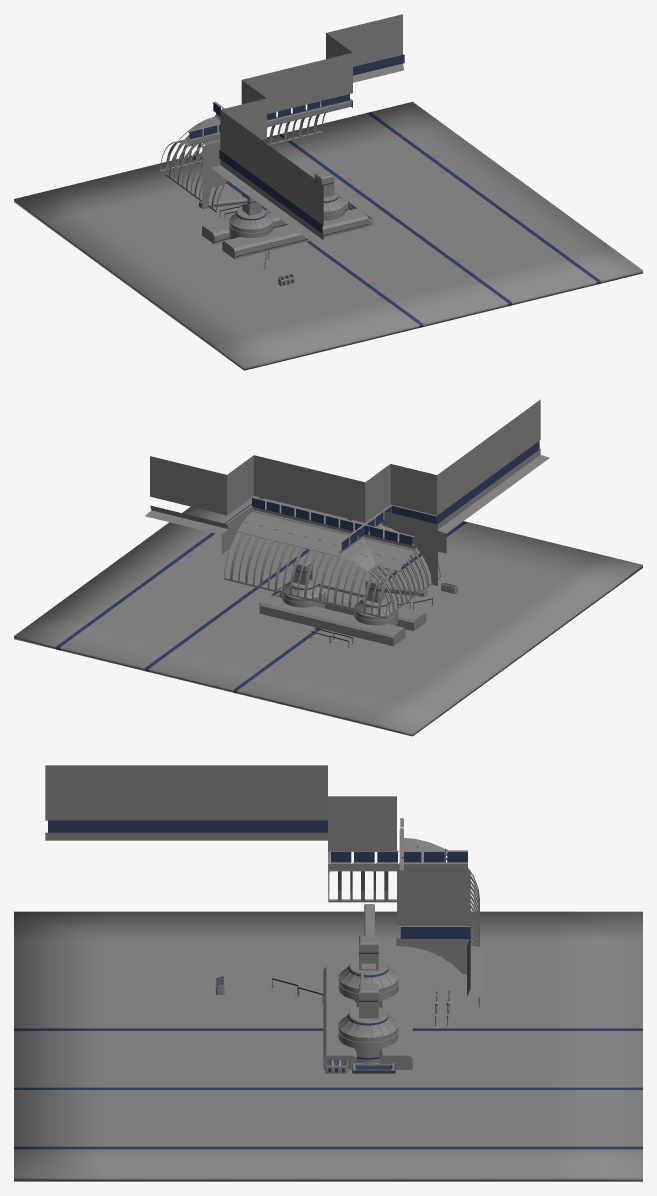
The model's file is background_set.fbx.
The picture shows the model from 3 angles, top to bottom: view 1: azimuth 30°, elevation 25°; view 2: azimuth 150°, elevation 25°; view 3: azimuth 270°, elevation 25°; orthographic projection. The views are drawn at different scales.
Visible parts, largest first — view 1: Plane, Cylinder.004, Cylinder.002, Cube.018, Cylinder.003, Cylinder.001, Cube.019, Cylinder; view 2: Plane, Cylinder.004, Cylinder.002, Cube.019, Cylinder.003, Cube.018, Cylinder.001, Cylinder; view 3: Plane, Cylinder.004, Cylinder.003, Cylinder, Cube.019, Cube.018, Cylinder.001, Cylinder.002, Cube.029, Cube.031.
Part boxes in pixels (<box>): Plane: <box>14,101,642,370</box>; Cylinder.004: <box>202,14,404,243</box>; Cylinder.002: <box>160,94,351,172</box>; Cube.018: <box>222,208,368,259</box>; Cylinder.003: <box>165,101,226,212</box>; Cylinder.001: <box>229,207,273,239</box>; Cube.019: <box>202,194,347,244</box>; Cylinder: <box>323,190,345,220</box>; Plane: <box>14,496,642,736</box>; Cylinder.004: <box>145,399,549,585</box>; Cylinder.002: <box>224,497,415,618</box>; Cube.019: <box>259,595,405,646</box>; Cylinder.003: <box>339,505,440,615</box>; Cube.018: <box>280,582,426,631</box>; Cylinder.001: <box>354,595,398,626</box>; Cylinder: <box>282,577,325,608</box>; Plane: <box>14,911,642,1181</box>; Cylinder.004: <box>45,765,485,998</box>; Cylinder.003: <box>328,850,467,902</box>; Cylinder: <box>338,1007,398,1063</box>; Cube.019: <box>379,966,412,1069</box>; Cube.018: <box>323,966,356,1069</box>; Cylinder.001: <box>338,958,398,1007</box>; Cylinder.002: <box>399,817,479,1009</box>; Cube.029: <box>359,935,378,970</box>; Cube.031: <box>359,983,378,1018</box>.
Size of the model in its own units: 17138 by 6355 by 17138.
